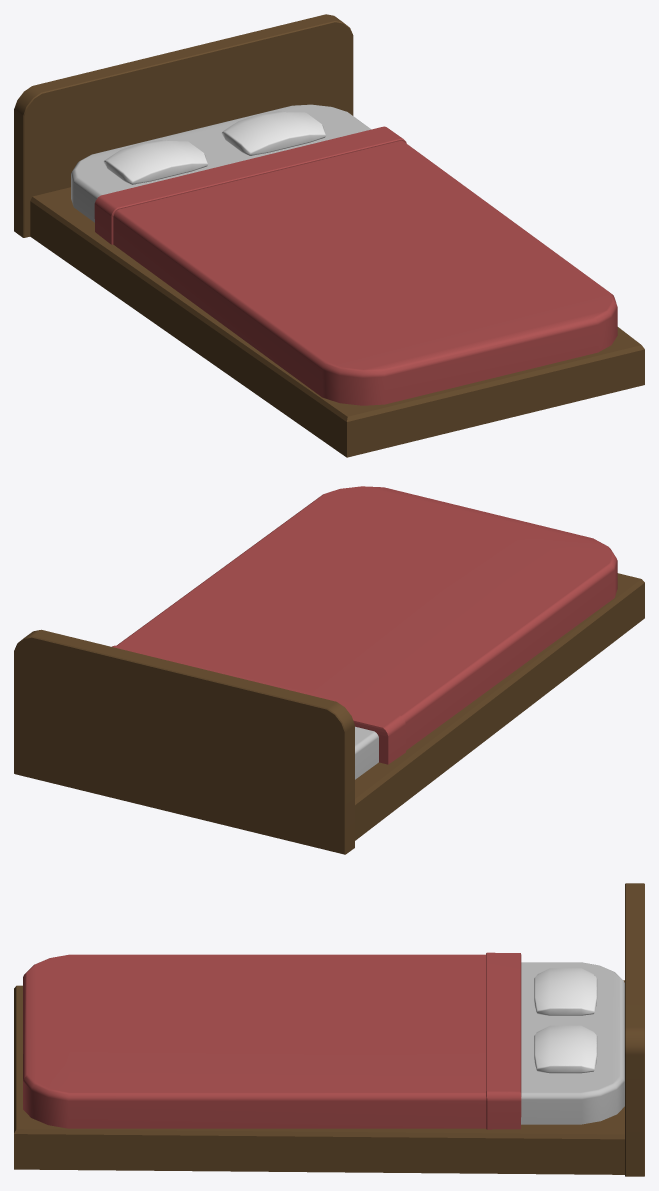
Rendered from BedGeo.fbx.
The picture shows the model from 3 angles, top to bottom: view 1: azimuth 30°, elevation 25°; view 2: azimuth 150°, elevation 25°; view 3: azimuth 270°, elevation 25°; orthographic projection.
Parts seen in each view (by area): view 1: BedGeo; view 2: BedGeo; view 3: BedGeo.
Boxes of the visible parts, x1,y1,x2,y2 form: BedGeo: (14, 14, 644, 457); BedGeo: (14, 486, 644, 854); BedGeo: (14, 883, 644, 1176).
Size of the model in its own units: 439 by 179 by 726.
